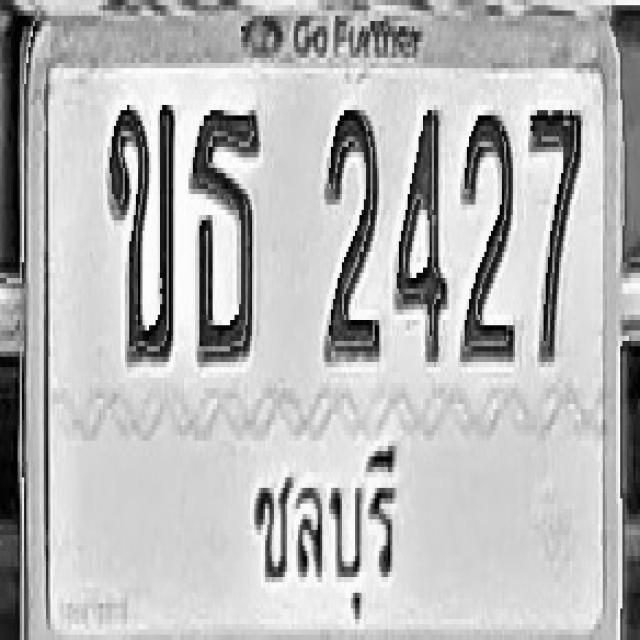11KhorKhai: (108, 100, 176, 362)
2: (324, 105, 380, 362), (460, 108, 515, 360)
33ThorThong: (190, 105, 260, 362)
4: (393, 105, 446, 362)
7: (529, 105, 582, 362)
Chonburi: (242, 426, 403, 631)
